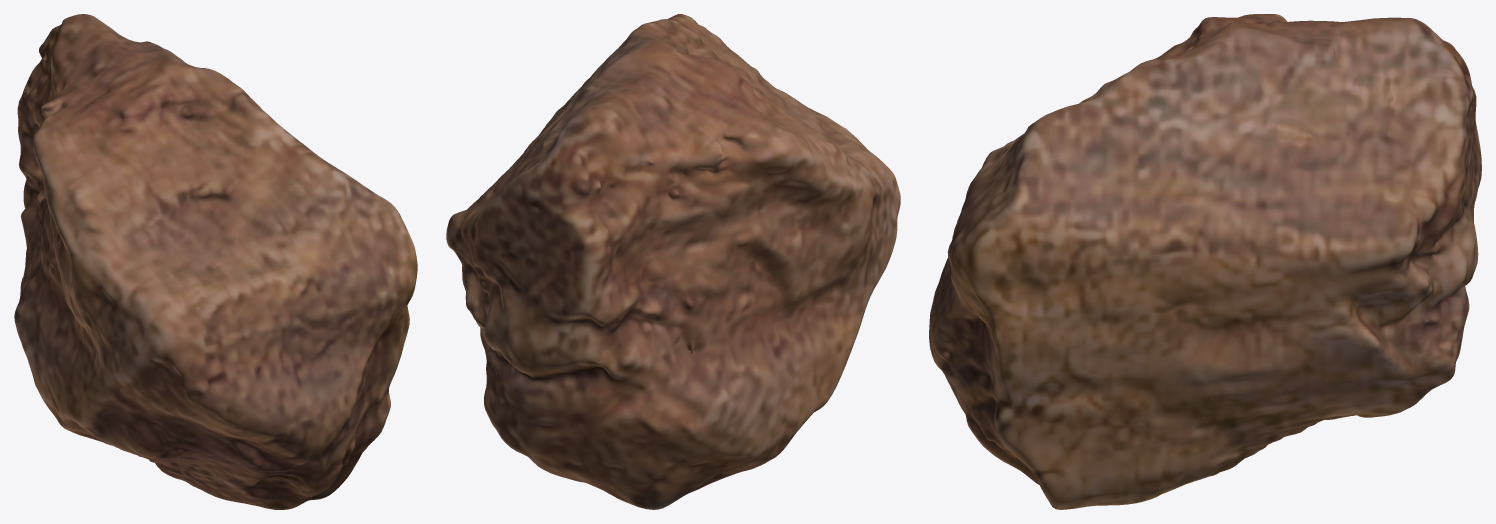
Rendered from bf75960b3970_Rock__3d_asset_0_gl.fbx.
The picture shows the model from 3 angles, left to right: view 1: azimuth 30°, elevation 25°; view 2: azimuth 150°, elevation 25°; view 3: azimuth 270°, elevation 25°; orthographic projection. The views are drawn at different scales.
Parts seen in each view (by area): view 1: high_poly; view 2: high_poly; view 3: high_poly.
Boxes of the visible parts, x1,y1,x2,y2 form: high_poly: (14, 14, 417, 509); high_poly: (446, 14, 900, 509); high_poly: (929, 14, 1481, 509).
Size of the model in its own units: 65.27 by 90.16 by 100.
